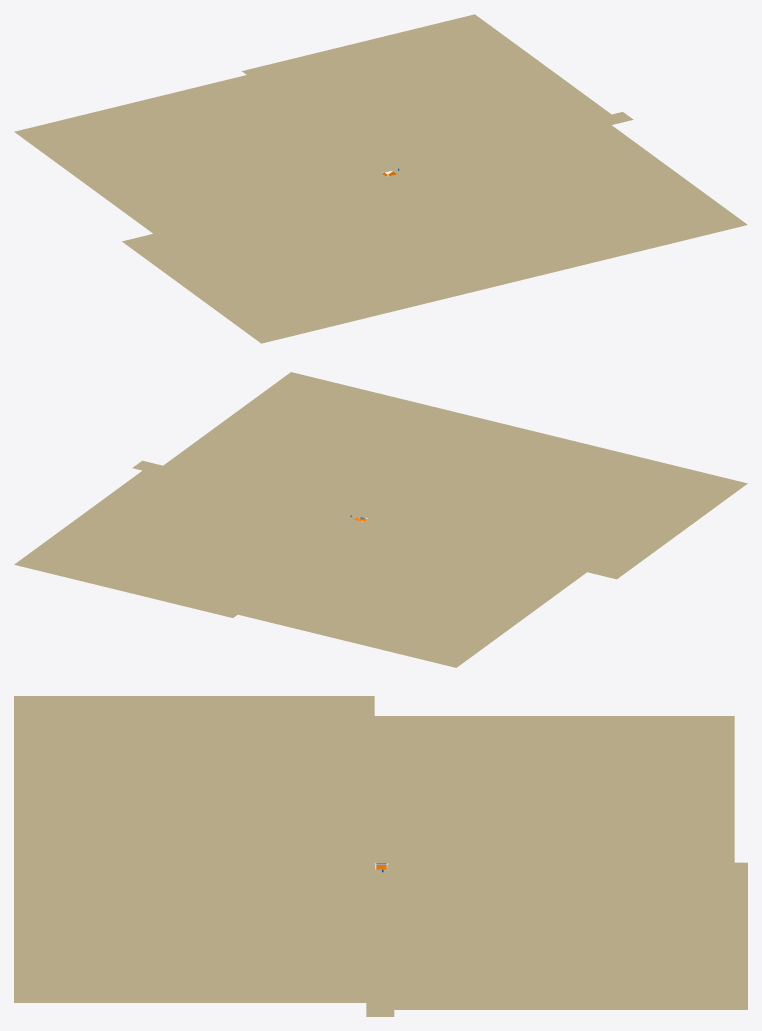
File: Oasis_InitialLayout_Binary.fbx
3 renders of one model, top to bottom at view 1: azimuth 30°, elevation 25°; view 2: azimuth 150°, elevation 25°; view 3: azimuth 270°, elevation 25°, orthographic. The views are drawn at different scales.
Visible parts, largest first — view 1: Plane_1, Plane__1_, Plane__3_, Plane__2_; view 2: Plane_1, Plane__1_, Plane__3_, Plane__2_; view 3: Plane_1, Plane__1_, Plane__3_, Plane__2_.
Boxes of the visible parts, x1,y1,x2,y2 form: Plane_1: (122,123,747,343); Plane__1_: (14,75,386,233); Plane__3_: (242,14,613,172); Plane__2_: (392,112,633,176); Plane_1: (160,372,747,579); Plane__1_: (238,519,586,667); Plane__3_: (14,469,363,617); Plane__2_: (132,460,359,519); Plane_1: (14,696,374,1002); Plane__1_: (374,716,734,862); Plane__3_: (387,862,747,1009); Plane__2_: (366,869,394,1016).
Bounding box in the file's own units: 50214 × 3756 × 48575.
